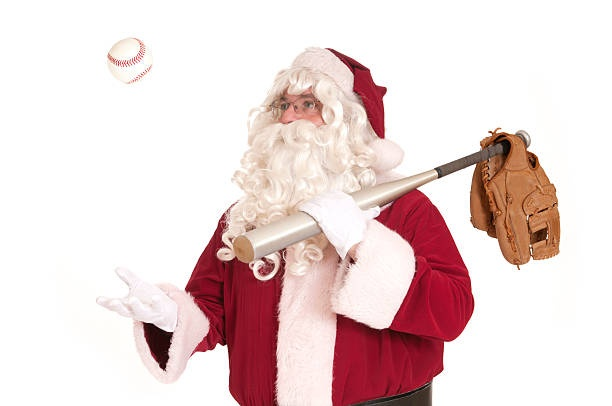bita: (235, 131, 525, 262)
